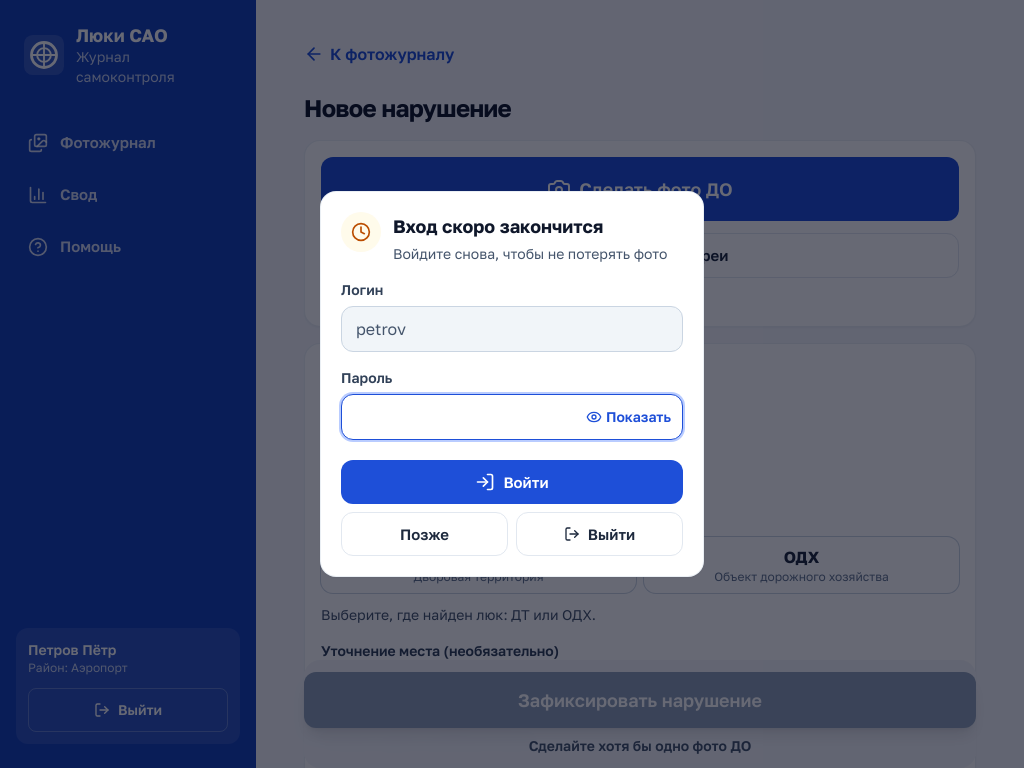
Test case: NewCardPage: вход истёк посреди работы › вход кончается через 10 минут — окно сразу при открытии формы, «Позже» его закрывает
Expected: the dialog "Вход скоро закончится" shows "Войдите снова, чтобы не потерять фото", [393,245,667,262]
Click the button "Позже" at (424, 534), box [341,512,508,556]
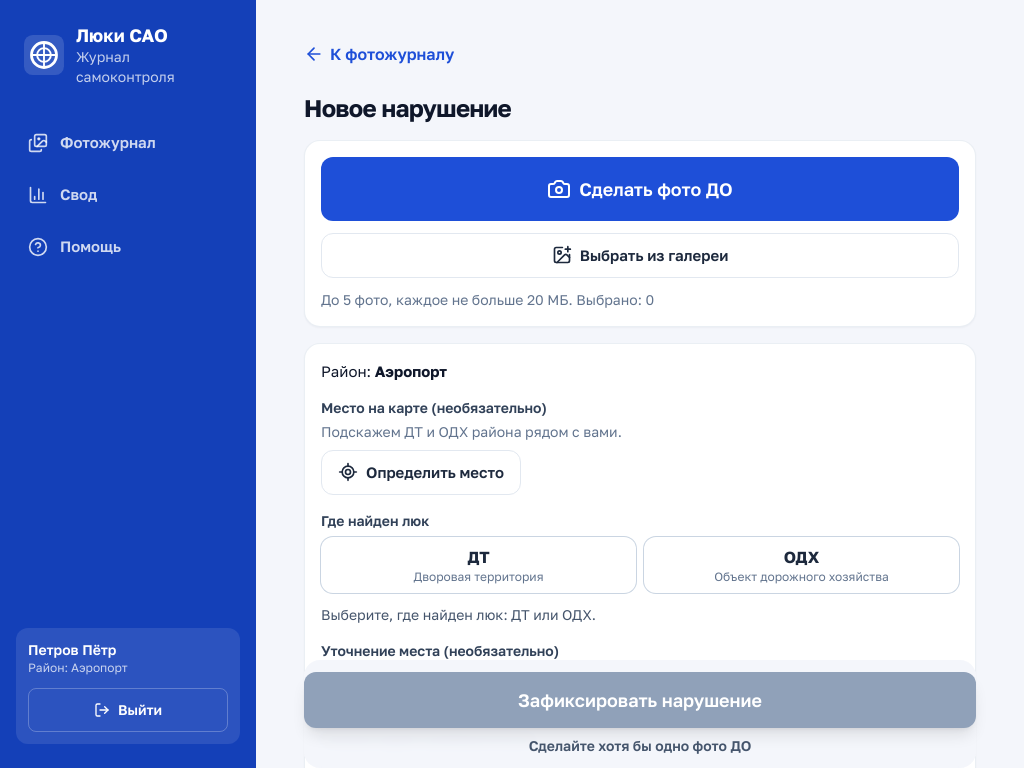
Expected: the button "Сделать фото ДО" is enabled, [321,157,959,221]
Result: the dialog is gone
